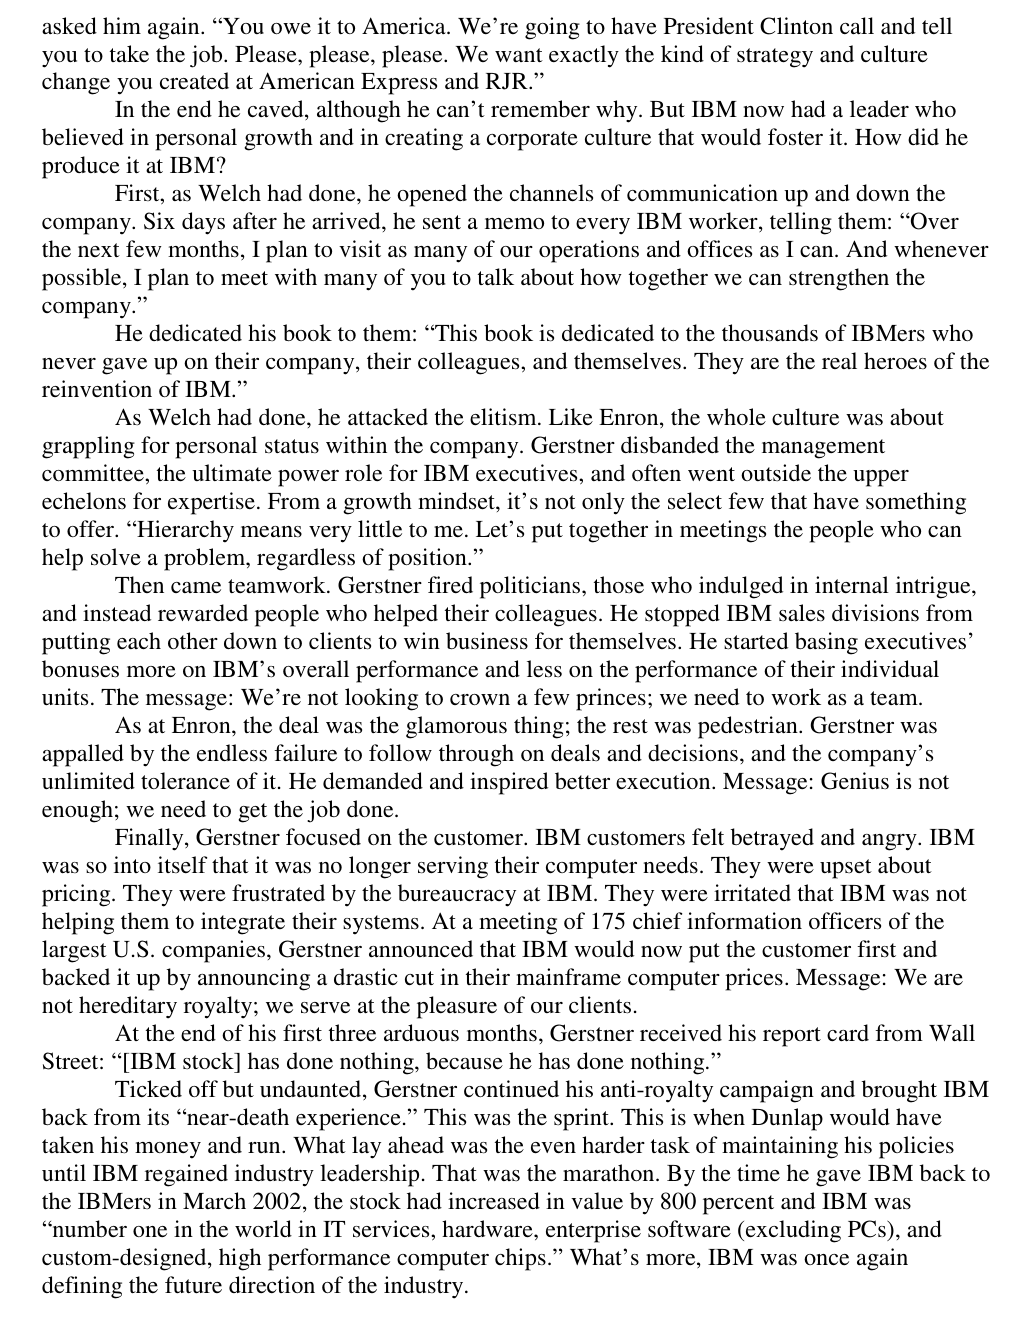latin: (33, 1020, 995, 1300), (38, 826, 977, 1022), (30, 407, 972, 571), (38, 180, 992, 323), (37, 571, 976, 713), (33, 715, 954, 826), (34, 323, 990, 407), (35, 98, 972, 180), (41, 17, 952, 97)
